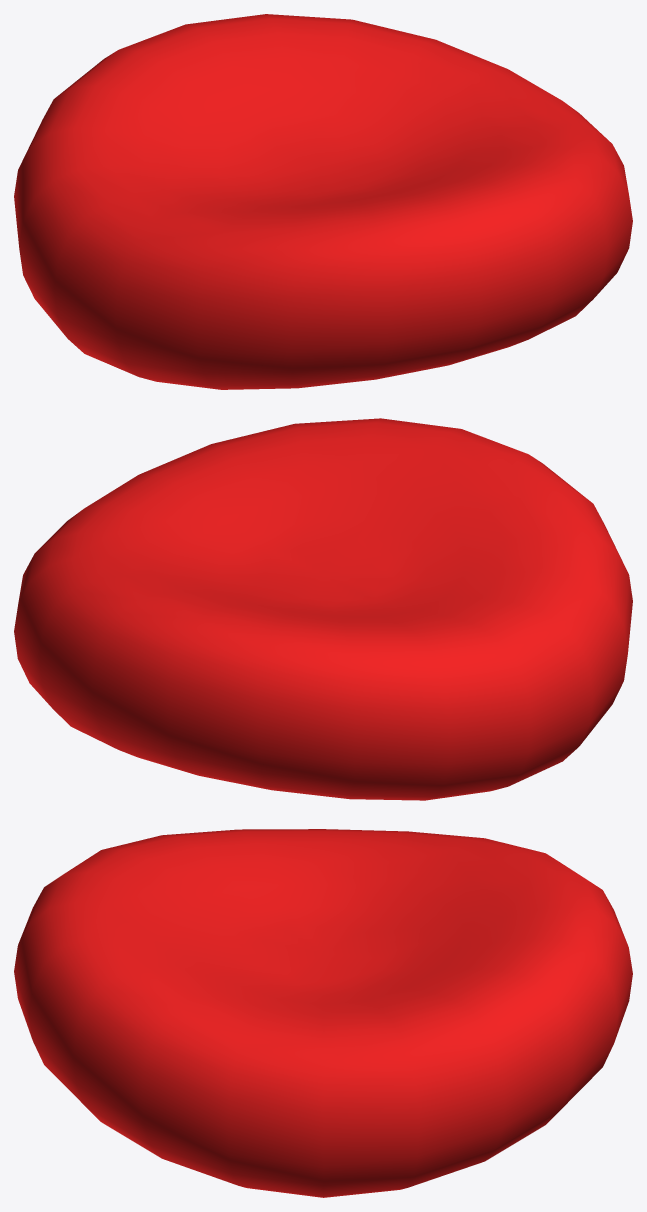
The model's file is blood.fbx.
3 views of the same model, one above another, from view 1: azimuth 30°, elevation 25°; view 2: azimuth 150°, elevation 25°; view 3: azimuth 270°, elevation 25° (orthographic).
Parts seen in each view (by area): view 1: bloodCell; view 2: bloodCell; view 3: bloodCell.
Boxes of the visible parts, x1=… form: bloodCell: x1=14, y1=14, x2=632, y2=389; bloodCell: x1=14, y1=418, x2=632, y2=800; bloodCell: x1=14, y1=829, x2=632, y2=1197.
Bounding box in the file's own units: 1.67 × 0.5855 × 1.67.
